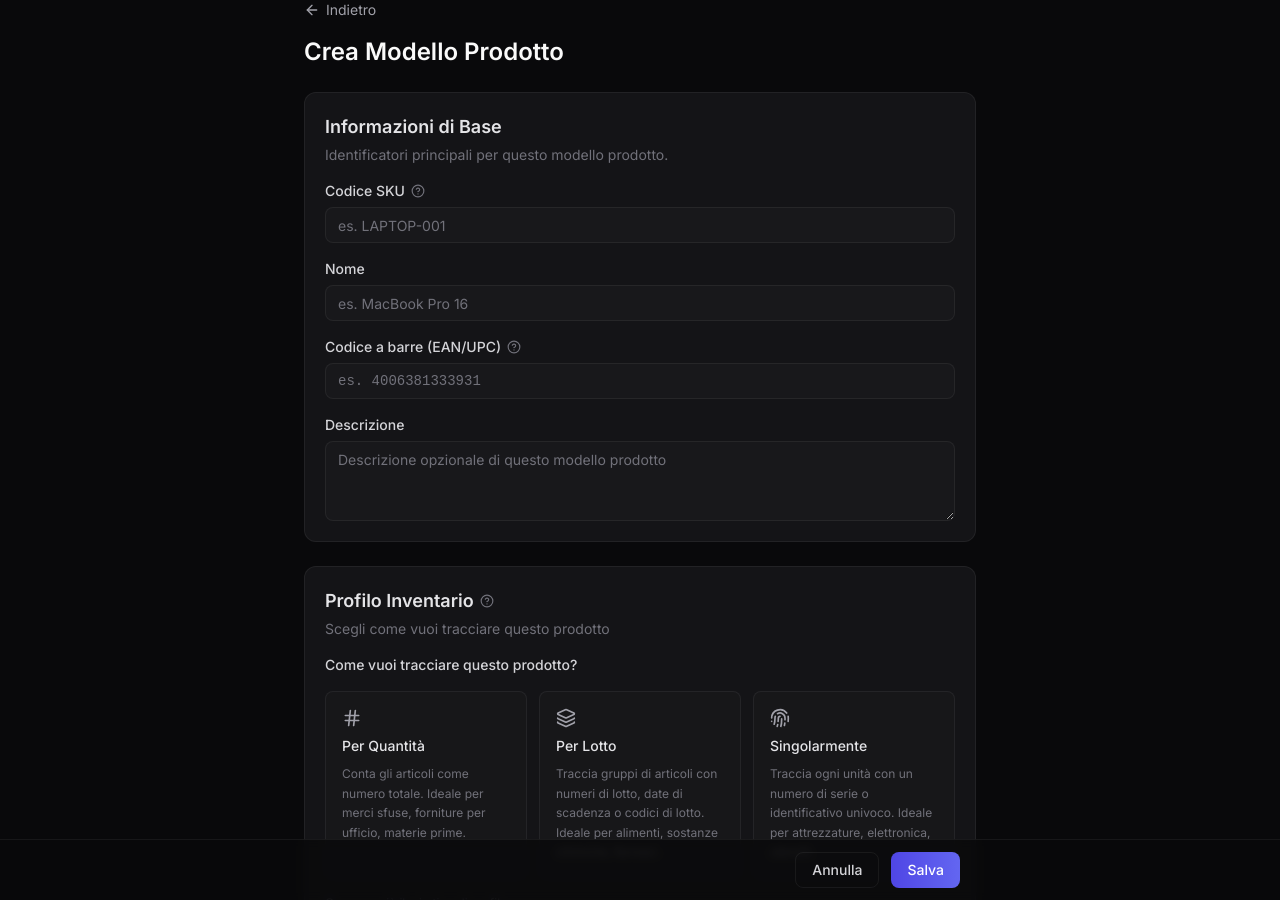
Test: ProductModelCreate Form › renders ProfileWizard category cards in Italian when language is switched
Check: the text "Per Quantità" is shown, box [342, 736, 425, 756]
Check: the text "Singolarmente" is shown, box [770, 736, 867, 756]
Note: Step 2 sub-options and prompt translate too
Step 1. Click the text "Per Lotto" → (586, 746), box [556, 736, 616, 756]
(page scrolled)
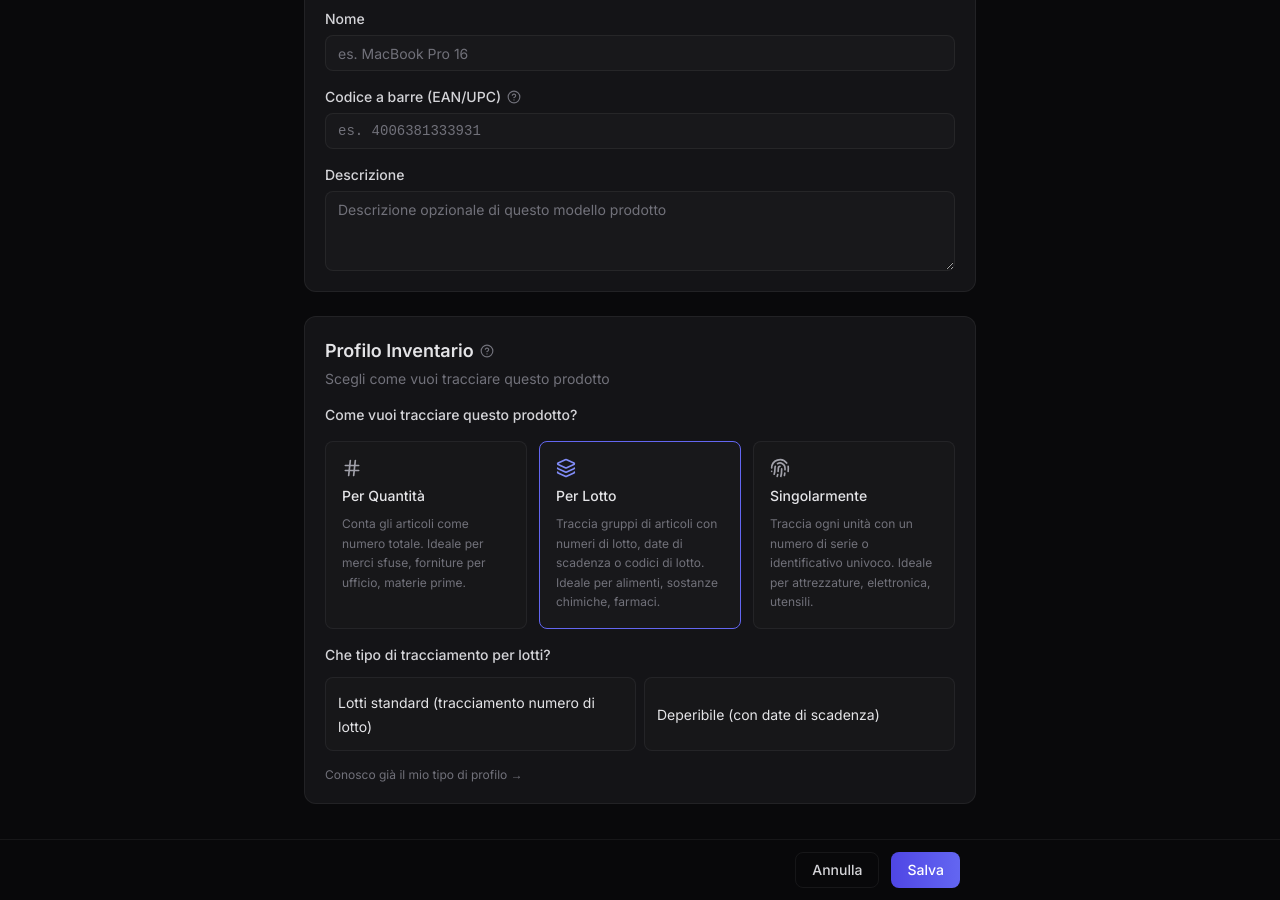
Check: the text "Che tipo di tracciamento per lotti?" is shown, box [325, 646, 551, 662]
Check: the text "Lotti standard (tracciamento numero di lotto)" is shown, box [338, 694, 595, 734]
